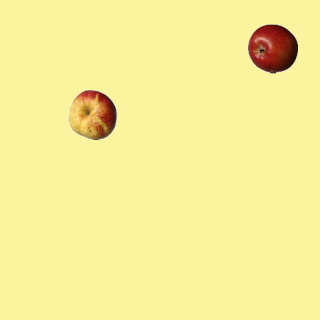Apple Braeburn: (247, 23, 297, 73)
Apple Red Yellow 1: (67, 89, 117, 139)
